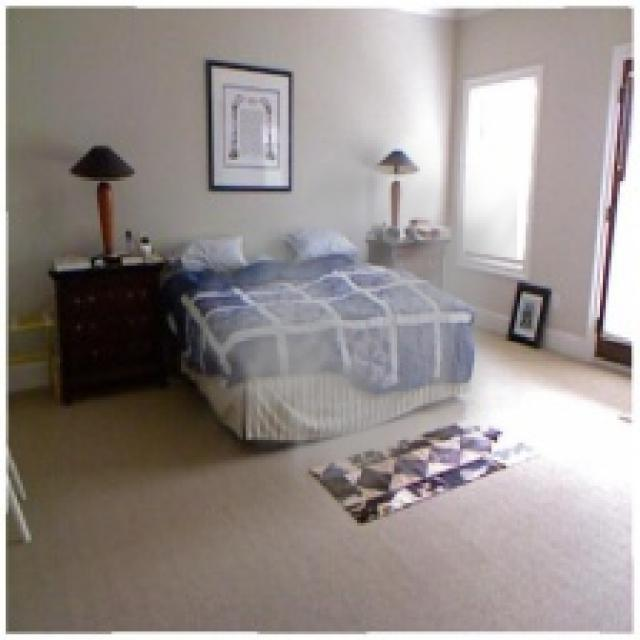Smoke: (157, 119, 517, 532)
